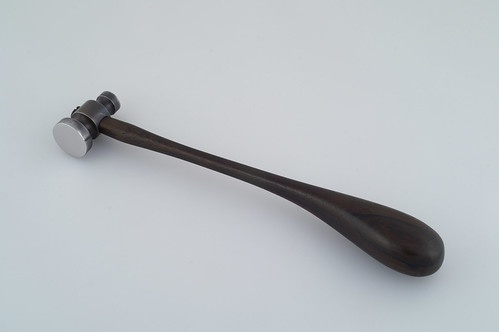hammer: (51, 89, 448, 279)
